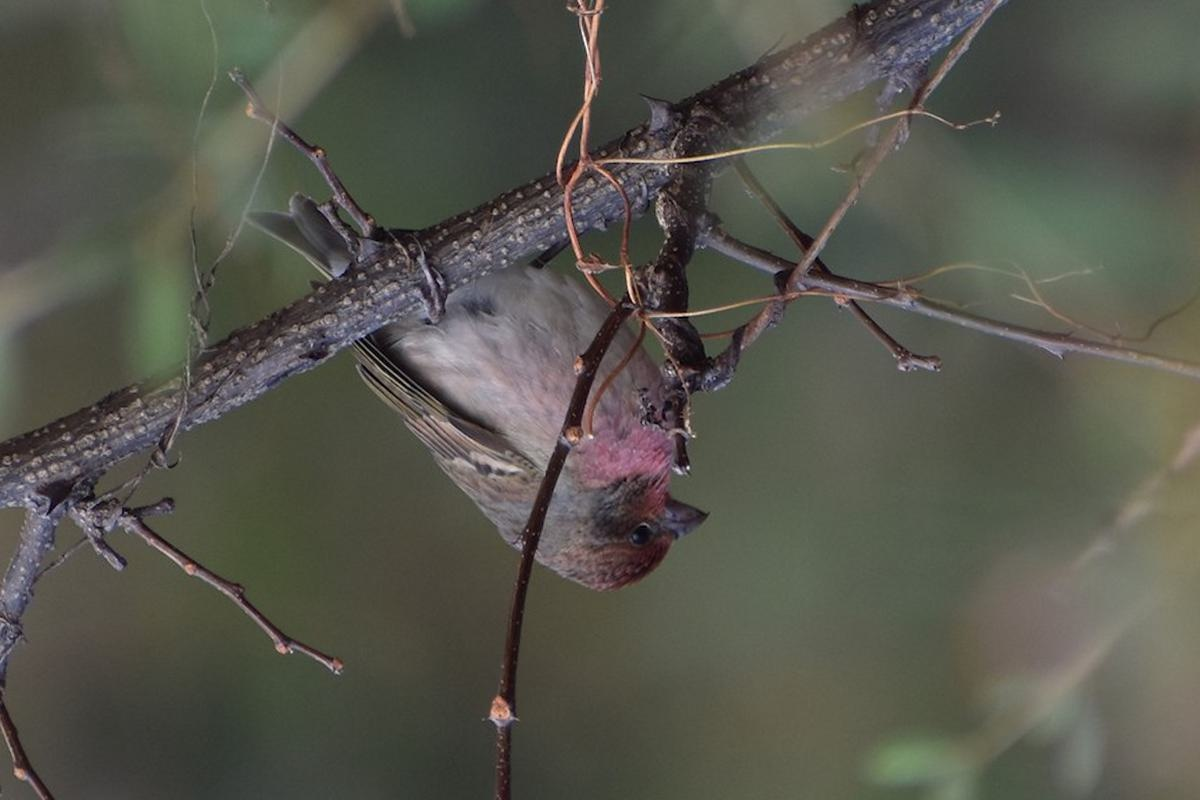rosefinch: (325, 215, 719, 606)
